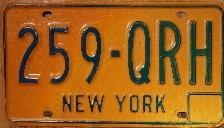2: (13, 23, 45, 87)
4: (44, 19, 74, 86)
9: (76, 19, 108, 87)
H: (187, 17, 215, 89)
Q: (125, 18, 155, 89)
R: (156, 19, 186, 87)
